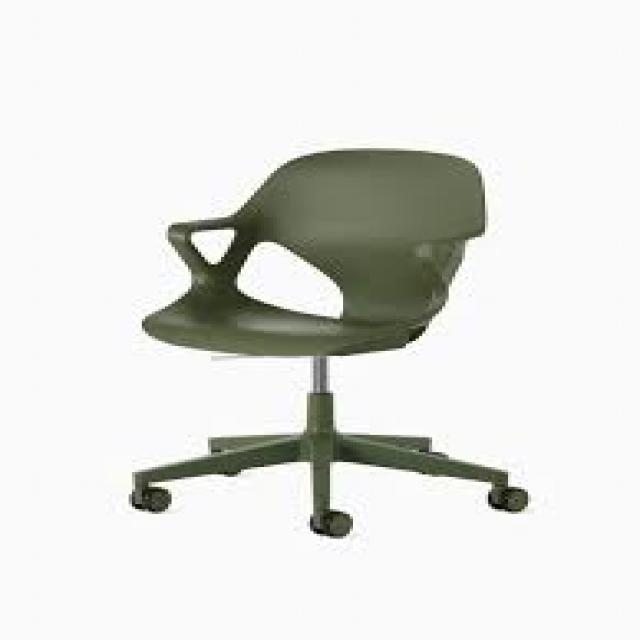chair: (123, 145, 533, 542)
